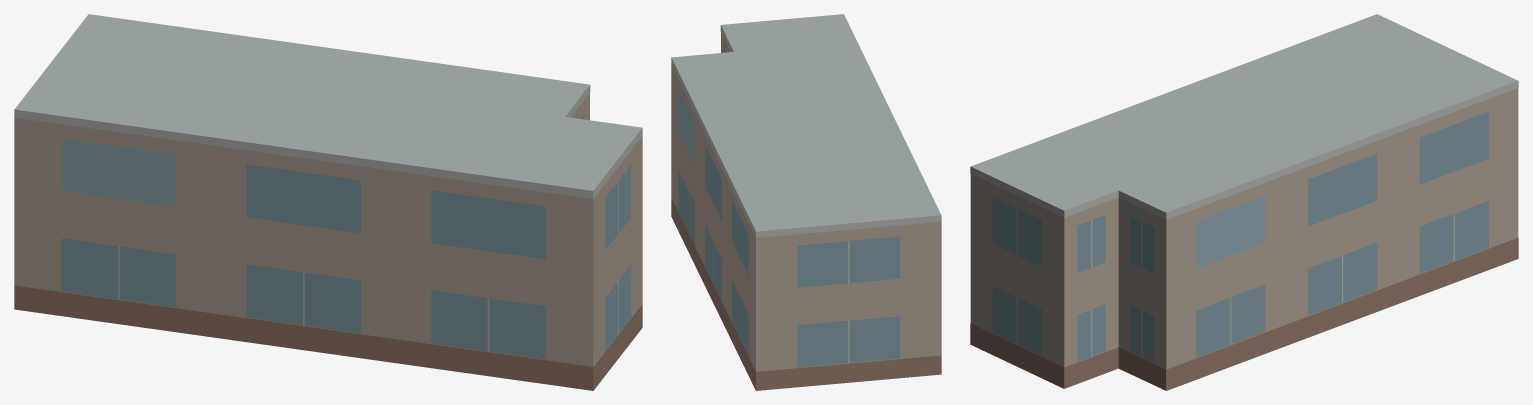
Rendered from survey-upis-32773230.glb.
3 views of the same model, side by side, from view 1: azimuth 30°, elevation 25°; view 2: azimuth 150°, elevation 25°; view 3: azimuth 270°, elevation 25° (orthographic). The views are drawn at different scales.
Parts seen in each view (by area): view 1: survey-upis-32773230.tmp; view 2: survey-upis-32773230.tmp; view 3: survey-upis-32773230.tmp.
Boxes of the visible parts, left/top/right/bottom form: survey-upis-32773230.tmp: left=14, top=14, right=642, bottom=390; survey-upis-32773230.tmp: left=671, top=14, right=941, bottom=390; survey-upis-32773230.tmp: left=970, top=14, right=1518, bottom=390.
Size of the model in its own units: 14.61 by 6.1 by 17.02.
